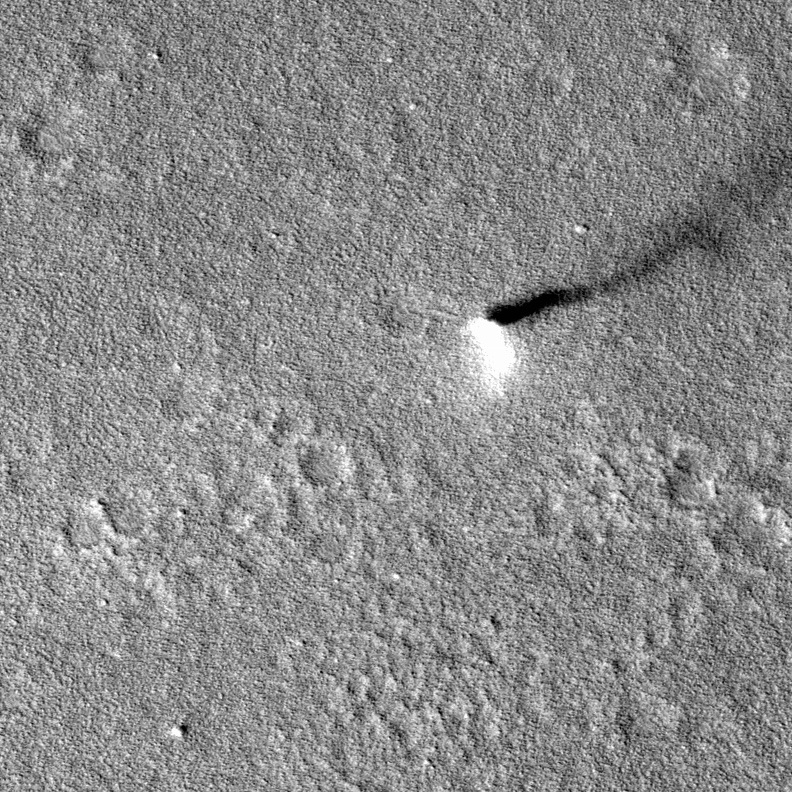dust_devil: (457, 209, 746, 398)
